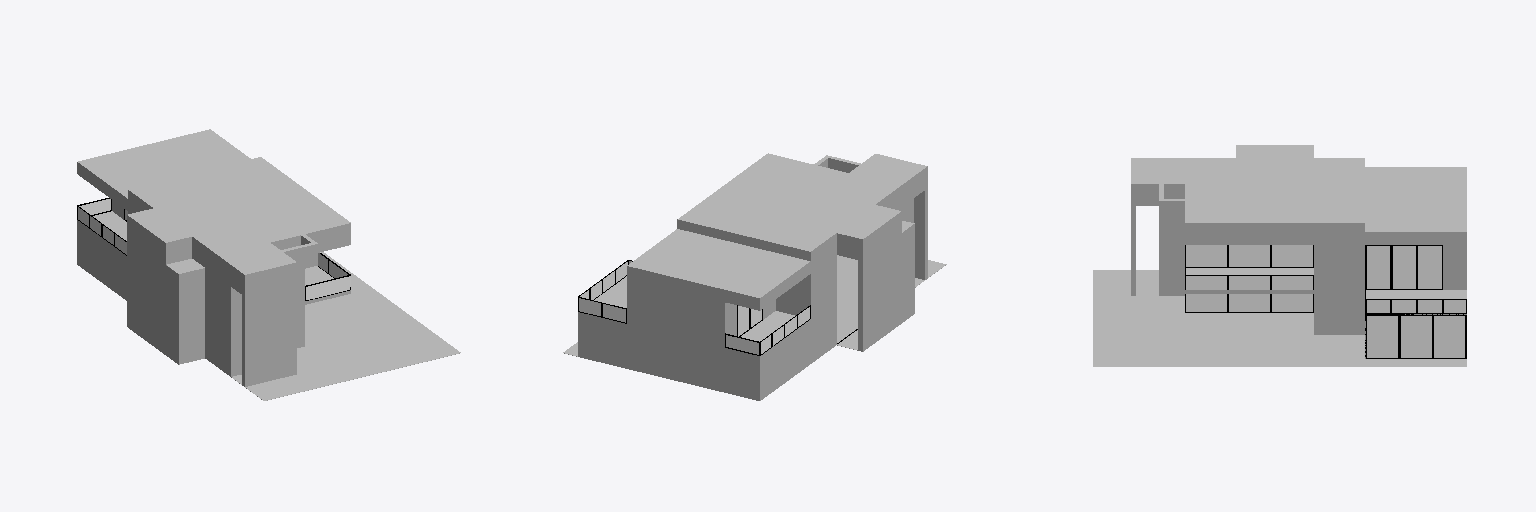
File: modern_house.obj
The picture shows the model from 3 angles: view 1: azimuth 30°, elevation 25°; view 2: azimuth 150°, elevation 25°; view 3: azimuth 270°, elevation 25°; orthographic projection.
Parts seen in each view (by area): view 1: Plane, Plane.030, Plane.036, Plane.073, Plane.004; view 2: Plane, Plane.036, Plane.051; view 3: Plane, Plane.030, Plane.004, Plane.073, Plane.010, Plane.011, Plane.012, Plane.015, Plane.013, Plane.014, Plane.001, Plane.002 (+4 smaller).
Boxes of the visible parts, <box> form: Plane: <box>77,129,350,386</box>; Plane.030: <box>231,252,460,400</box>; Plane.036: <box>127,215,152,345</box>; Plane.073: <box>297,347,349,388</box>; Plane.004: <box>305,253,350,300</box>; Plane: <box>578,153,927,400</box>; Plane.036: <box>858,221,888,351</box>; Plane.051: <box>837,255,857,342</box>; Plane: <box>1131,145,1466,358</box>; Plane.030: <box>1093,270,1466,366</box>; Plane.004: <box>1185,253,1313,289</box>; Plane.073: <box>1093,296,1184,312</box>; Plane.010: <box>1367,316,1397,357</box>; Plane.011: <box>1401,316,1431,357</box>; Plane.012: <box>1434,316,1464,357</box>; Plane.015: <box>1418,246,1441,288</box>; Plane.013: <box>1367,246,1389,288</box>; Plane.014: <box>1393,246,1415,288</box>; Plane.001: <box>1272,245,1312,266</box>; Plane.002: <box>1229,245,1269,266</box>.
Size of the model in its own units: 9.6 by 4.6 by 13.86.